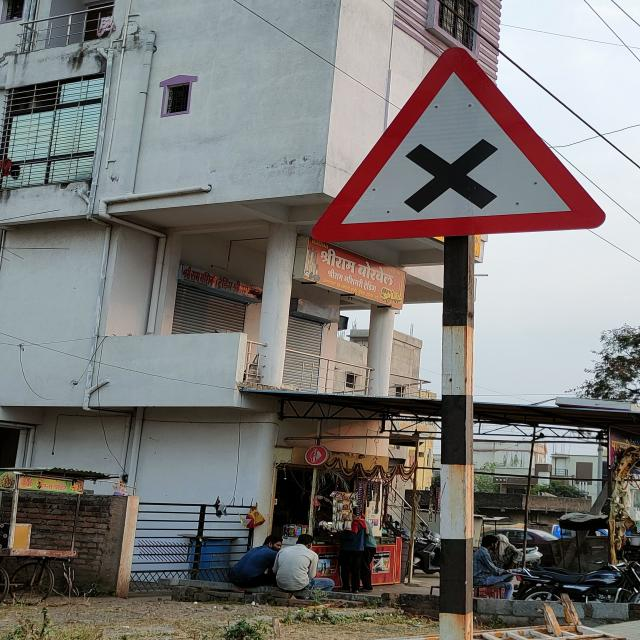cross_road: (309, 46, 605, 241)
